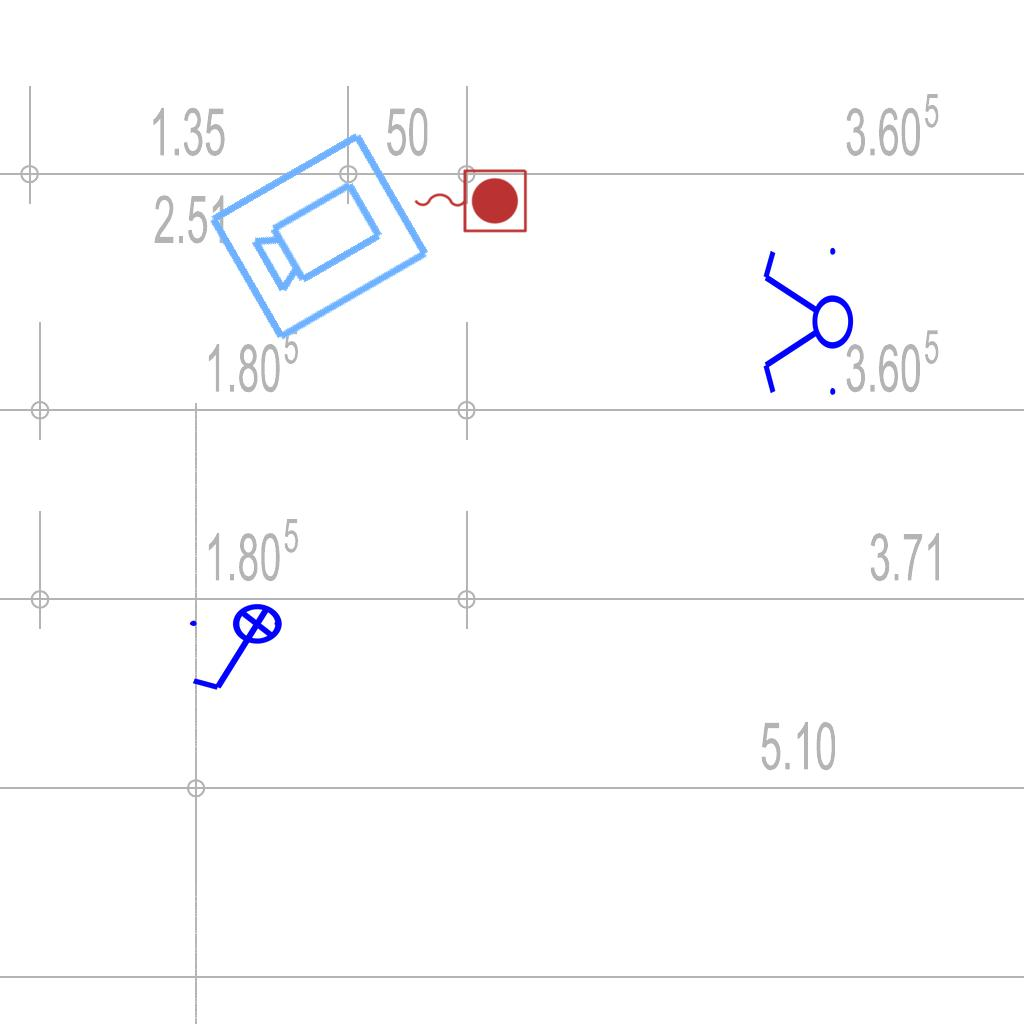Ausschalter_beleuchtet: (184, 602, 296, 698)
KFO_Kamera_mit_Festobjektiv: (201, 122, 437, 348)
Serienschalter: (759, 239, 855, 407)
Zugtaster: (409, 164, 531, 236)
